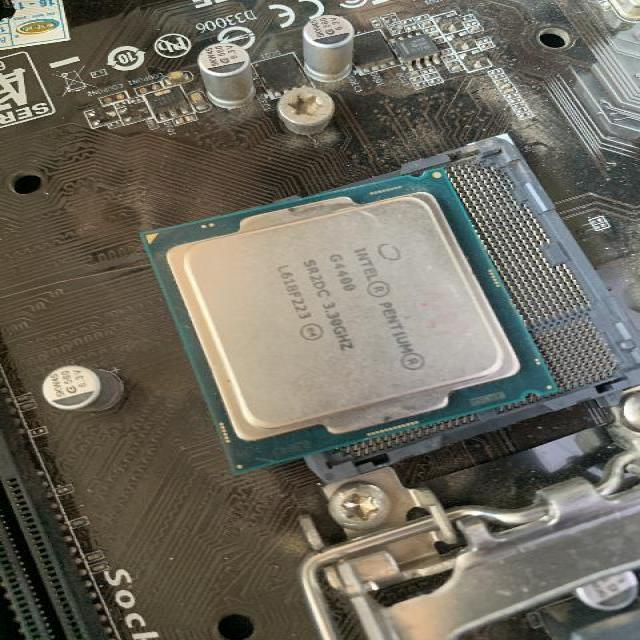CPU: (138, 166, 558, 474)
Mainboard: (0, 1, 640, 640)
